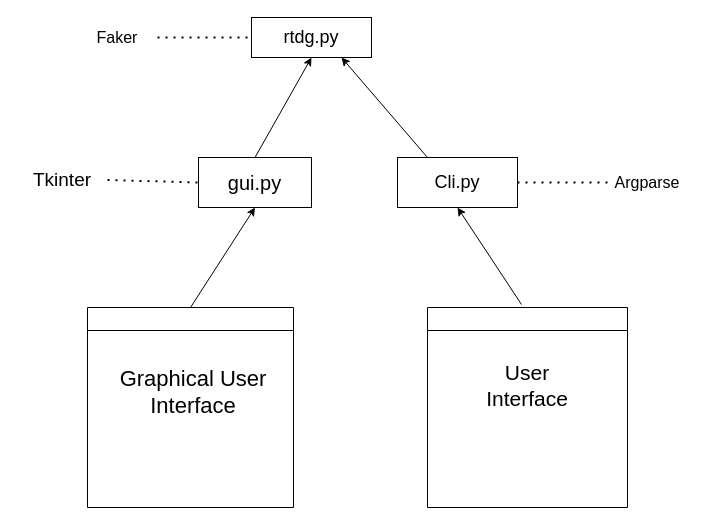
The diagram is 704 pixels wide and 525 high, and some of its shapes have lost their labels. Each missing label, with the box of its shape:
Cmd: (426, 306, 628, 508)
window: (86, 306, 294, 508)
